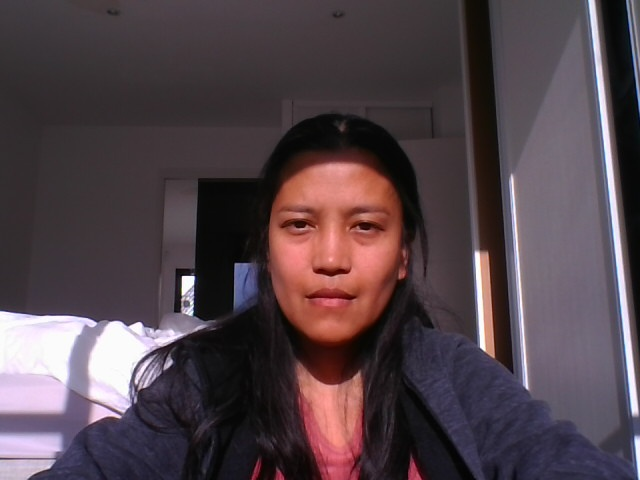face: (270, 161, 405, 343)
